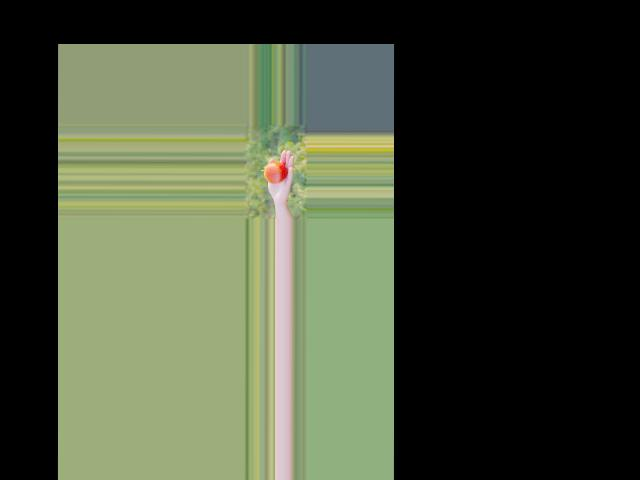tomato: (264, 162, 288, 183)
